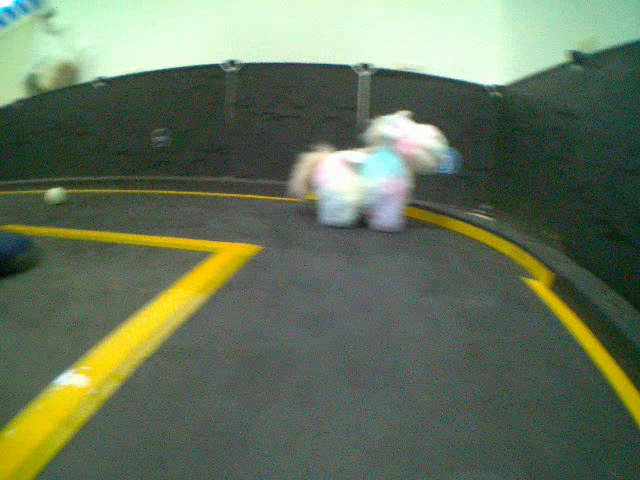unicorn: (287, 109, 451, 233)
